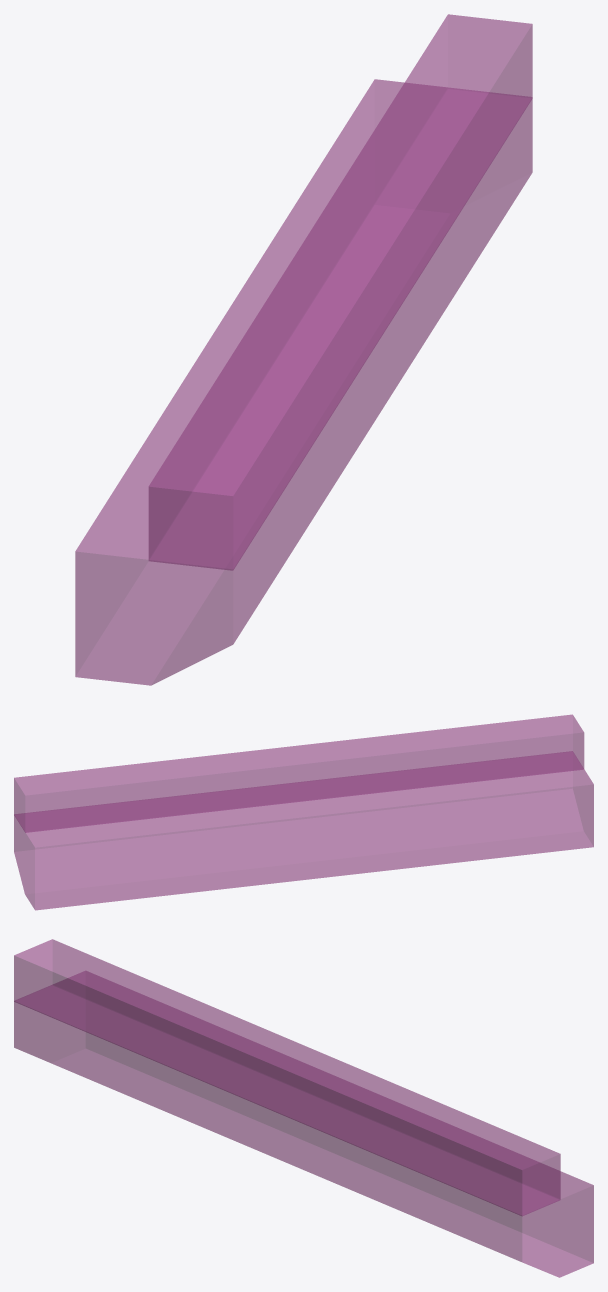
Rendered from SM_Bld_Railing_45_01_Collision.fbx.
3 views of the same model, one above another, from view 1: azimuth 30°, elevation 25°; view 2: azimuth 150°, elevation 25°; view 3: azimuth 270°, elevation 25° (orthographic). The views are drawn at different scales.
Parts seen in each view (by area): view 1: SM_Bld_Railing_45_01_Collision; view 2: SM_Bld_Railing_45_01_Collision; view 3: SM_Bld_Railing_45_01_Collision.
Part boxes in pixels (<box>): SM_Bld_Railing_45_01_Collision: <box>75,14,532,685</box>; SM_Bld_Railing_45_01_Collision: <box>14,714,593,910</box>; SM_Bld_Railing_45_01_Collision: <box>14,939,593,1277</box>.
Size of the model in its own units: 294 by 69.06 by 294.
